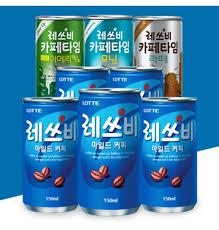letsbe: (79, 89, 140, 217), (23, 97, 80, 213), (142, 94, 196, 216)
